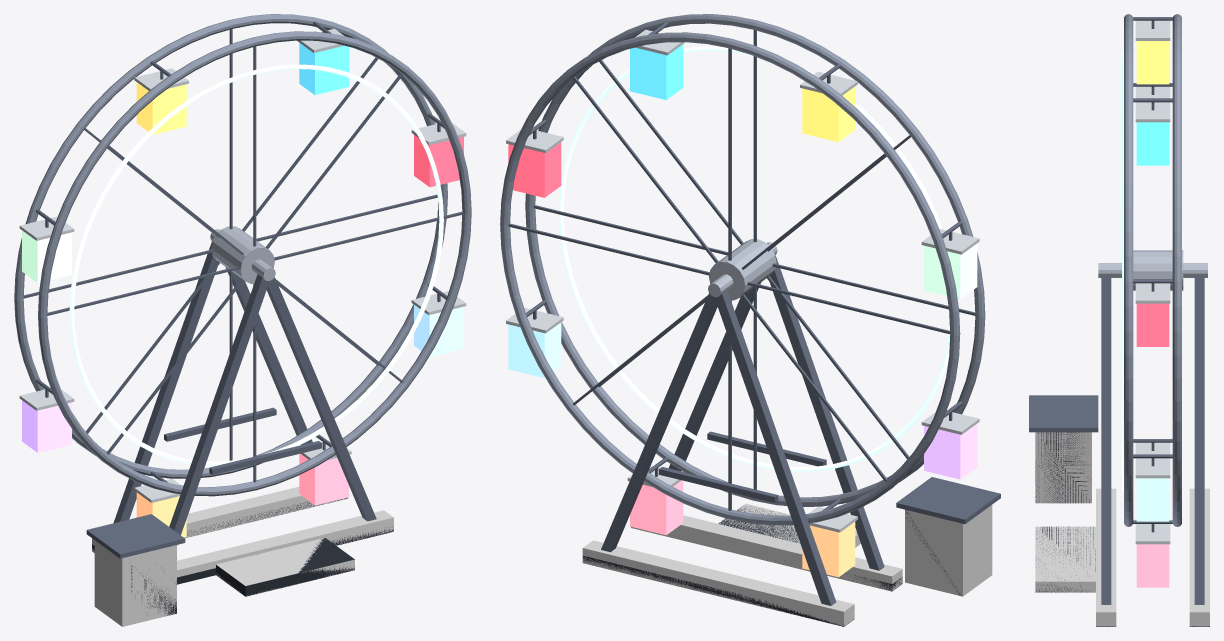
File: ferris_wheel.glb
The picture shows the model from 3 angles, left to right: view 1: azimuth 30°, elevation 25°; view 2: azimuth 150°, elevation 25°; view 3: azimuth 270°, elevation 25°; orthographic projection. The views are drawn at different scales.
Parts seen in each view (by area): view 1: WheelMesh, FerrisFrame, COL_Booth, COL_Footing_-1.15, COL_Footing_1.15, COL_Deck, GondolaMesh_4, GondolaMesh_1, GondolaMesh_3, GondolaMesh_2, GondolaMesh_0, GondolaMesh_7 (+2 smaller); view 2: WheelMesh, FerrisFrame, COL_Footing_1.15, COL_Booth, COL_Footing_-1.15, GondolaMesh_4, GondolaMesh_1, GondolaMesh_0, GondolaMesh_2, GondolaMesh_3, GondolaMesh_7, GondolaMesh_5 (+2 smaller); view 3: WheelMesh, FerrisFrame, COL_Booth, COL_Deck, GondolaMesh_2, GondolaMesh_0, GondolaMesh_1, GondolaMesh_6, GondolaMesh_7, COL_Footing_-1.15, COL_Footing_1.15, GondolaMesh_3 (+1 smaller).
Part boxes in pixels (left/top/right/bottom): WheelMesh: left=14, top=14, right=471, bottom=496; FerrisFrame: left=86, top=229, right=393, bottom=616; COL_Booth: left=94, top=540, right=176, bottom=626; COL_Footing_-1.15: left=177, top=510, right=393, bottom=577; COL_Footing_1.15: left=92, top=486, right=348, bottom=552; COL_Deck: left=216, top=538, right=354, bottom=596; GondolaMesh_4: left=19, top=389, right=74, bottom=452; GondolaMesh_1: left=297, top=28, right=349, bottom=95; GondolaMesh_3: left=19, top=216, right=74, bottom=282; GondolaMesh_2: left=134, top=68, right=188, bottom=134; GondolaMesh_0: left=411, top=123, right=466, bottom=187; GondolaMesh_7: left=411, top=291, right=466, bottom=357; WheelMesh: left=500, top=14, right=985, bottom=525; FerrisFrame: left=582, top=242, right=1000, bottom=626; COL_Footing_1.15: left=582, top=540, right=854, bottom=626; COL_Booth: left=905, top=505, right=992, bottom=596; COL_Footing_-1.15: left=631, top=515, right=902, bottom=591; GondolaMesh_4: left=921, top=412, right=979, bottom=479; GondolaMesh_1: left=630, top=29, right=685, bottom=99; GondolaMesh_0: left=506, top=129, right=563, bottom=197; GondolaMesh_2: left=800, top=71, right=857, bottom=141; GondolaMesh_3: left=921, top=229, right=979, bottom=299; GondolaMesh_7: left=506, top=307, right=563, bottom=377; GondolaMesh_5: left=802, top=507, right=857, bottom=577; WheelMesh: left=1122, top=14, right=1183, bottom=526; FerrisFrame: left=1029, top=263, right=1209, bottom=626; COL_Booth: left=1035, top=432, right=1091, bottom=503; COL_Deck: left=1035, top=526, right=1095, bottom=592; GondolaMesh_2: left=1135, top=20, right=1170, bottom=84; GondolaMesh_0: left=1135, top=283, right=1170, bottom=346; GondolaMesh_1: left=1135, top=102, right=1170, bottom=165; GondolaMesh_6: left=1135, top=524, right=1170, bottom=587; GondolaMesh_7: left=1135, top=458, right=1170, bottom=521; COL_Footing_-1.15: left=1096, top=488, right=1116, bottom=626; COL_Footing_1.15: left=1189, top=488, right=1209, bottom=626; GondolaMesh_3: left=1135, top=86, right=1170, bottom=98.
Size of the model in its own units: 12.64 by 14.37 by 4.45.
